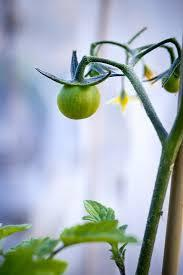Mengkal: (53, 79, 104, 122), (158, 69, 182, 95)
